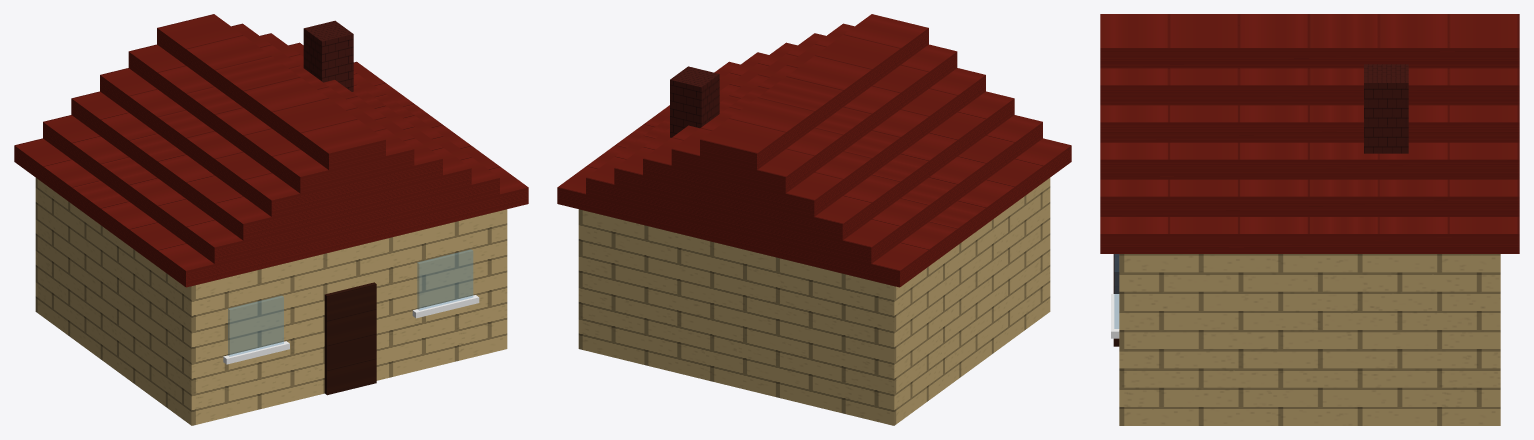
Rendered from casa-blocos.glb.
The picture shows the model from 3 angles, left to right: view 1: azimuth 30°, elevation 25°; view 2: azimuth 150°, elevation 25°; view 3: azimuth 270°, elevation 25°; orthographic projection. The views are drawn at different scales.
Parts seen in each view (by area): view 1: paredes, telhado_0, telhado_1, telhado_5, telhado_2, telhado_3, telhado_4, janela (×2), porta, chamine, peitoril (×2); view 2: paredes, telhado_0, telhado_1, telhado_5, telhado_2, telhado_3, telhado_4, chamine; view 3: paredes, telhado_5, telhado_1, telhado_0, telhado_2, telhado_3, telhado_4, chamine, peitoril.
Boxes of the visible parts, box(x1,y1,x2,y2) form: paredes: box(35, 178, 507, 425); telhado_0: box(14, 61, 528, 287); telhado_1: box(43, 71, 499, 263); telhado_5: box(157, 14, 385, 169); telhado_2: box(71, 42, 471, 240); telhado_3: box(100, 33, 442, 216); telhado_4: box(128, 23, 414, 193); janela (×2): box(228, 249, 472, 356); porta: box(324, 282, 376, 395); chamine: box(303, 20, 353, 91); peitoril (×2): box(223, 295, 479, 364); paredes: box(578, 178, 1050, 425); telhado_0: box(557, 61, 1071, 287); telhado_1: box(586, 52, 1042, 263); telhado_5: box(700, 14, 928, 169); telhado_2: box(614, 42, 1014, 240); telhado_3: box(643, 33, 985, 216); telhado_4: box(671, 23, 957, 193); chamine: box(670, 66, 719, 137); paredes: box(1119, 254, 1500, 425); telhado_5: box(1100, 14, 1519, 68); telhado_1: box(1100, 179, 1519, 216); telhado_0: box(1100, 217, 1519, 253); telhado_2: box(1100, 142, 1519, 179); telhado_3: box(1100, 105, 1519, 142); telhado_4: box(1100, 68, 1519, 105); chamine: box(1364, 64, 1408, 153); peitoril: box(1111, 294, 1119, 338).
Size of the model in its own units: 7.6 by 5.4 by 6.6.
6 materials, 4 textured.
